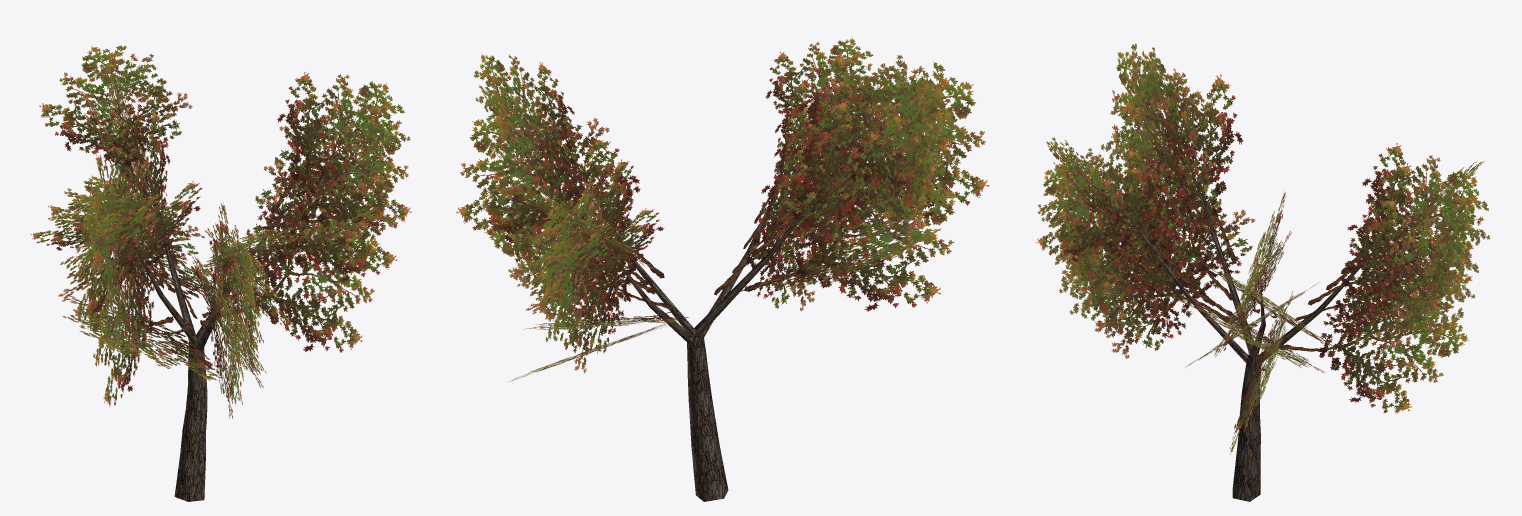
File: maple03_lod2.glb
3 views of the same model, side by side, from view 1: azimuth 30°, elevation 25°; view 2: azimuth 150°, elevation 25°; view 3: azimuth 270°, elevation 25° (orthographic). The views are drawn at different scales.
Visible parts, largest first — view 1: maple03_lod2; view 2: maple03_lod2; view 3: maple03_lod2.
Boxes of the visible parts, <box> form: maple03_lod2: <box>30,45,411,501</box>; maple03_lod2: <box>456,37,989,501</box>; maple03_lod2: <box>1036,43,1490,501</box>.
Bounding box in the file's own units: 17.26 × 15.97 × 17.54.
2 materials, 2 textured.
